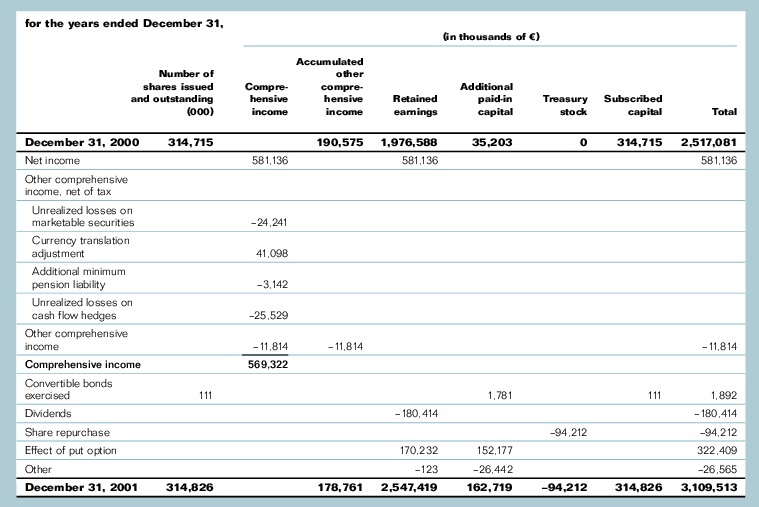table: (0, 0, 759, 507)
